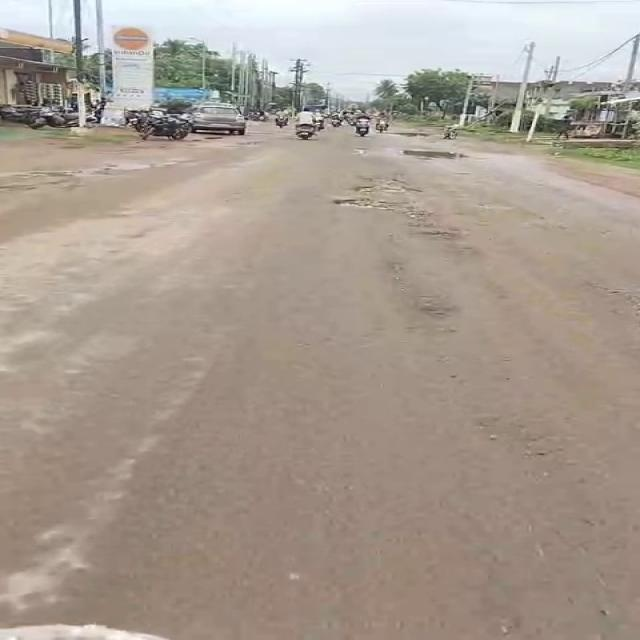pothole: (355, 146, 470, 161), (413, 291, 462, 323), (342, 178, 420, 198), (327, 196, 409, 210), (406, 225, 464, 242), (383, 254, 408, 284)
